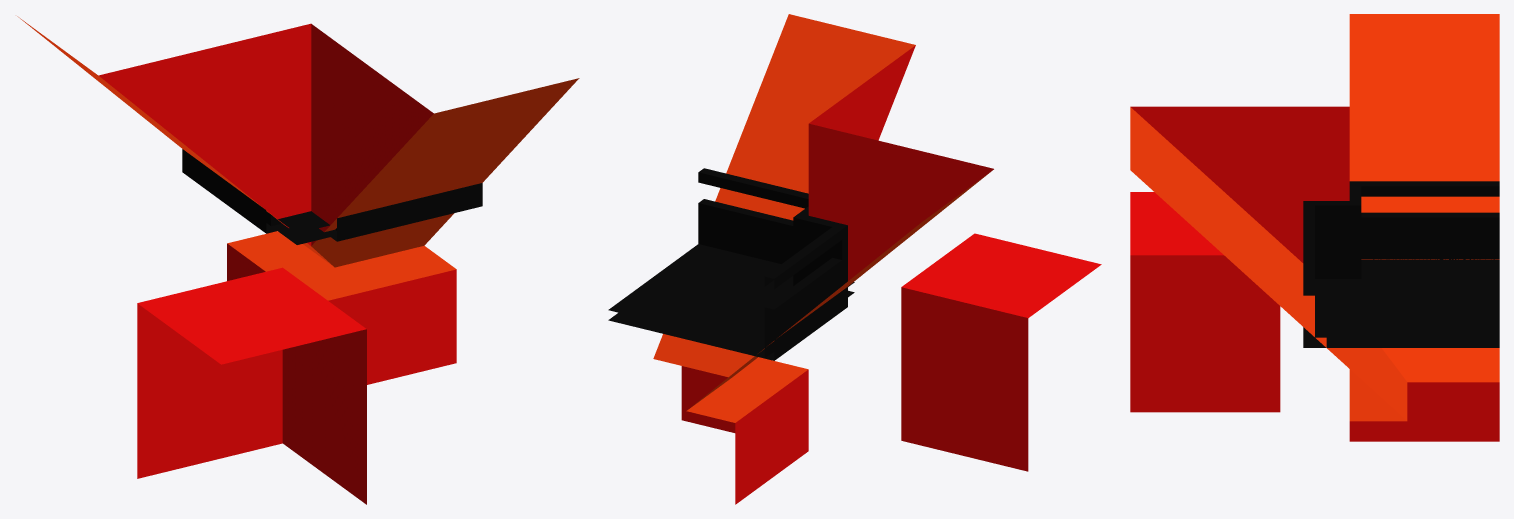
3 renders of one model, left to right at view 1: azimuth 30°, elevation 25°; view 2: azimuth 150°, elevation 25°; view 3: azimuth 270°, elevation 25°, orthographic. The views are drawn at different scales.
Parts seen in each view (by area): view 1: None_P_S_E_E_S_E_E_A_None; view 2: None_P_S_E_E_S_E_E_A_None; view 3: None_P_S_E_E_S_E_E_A_None.
Part boxes in pixels (x1,y1,x2,y2): None_P_S_E_E_S_E_E_A_None: (17,16,579,504); None_P_S_E_E_S_E_E_A_None: (608,14,1101,504); None_P_S_E_E_S_E_E_A_None: (1130,14,1499,441).
Bounding box in the file's own units: 100 × 100 × 100.
